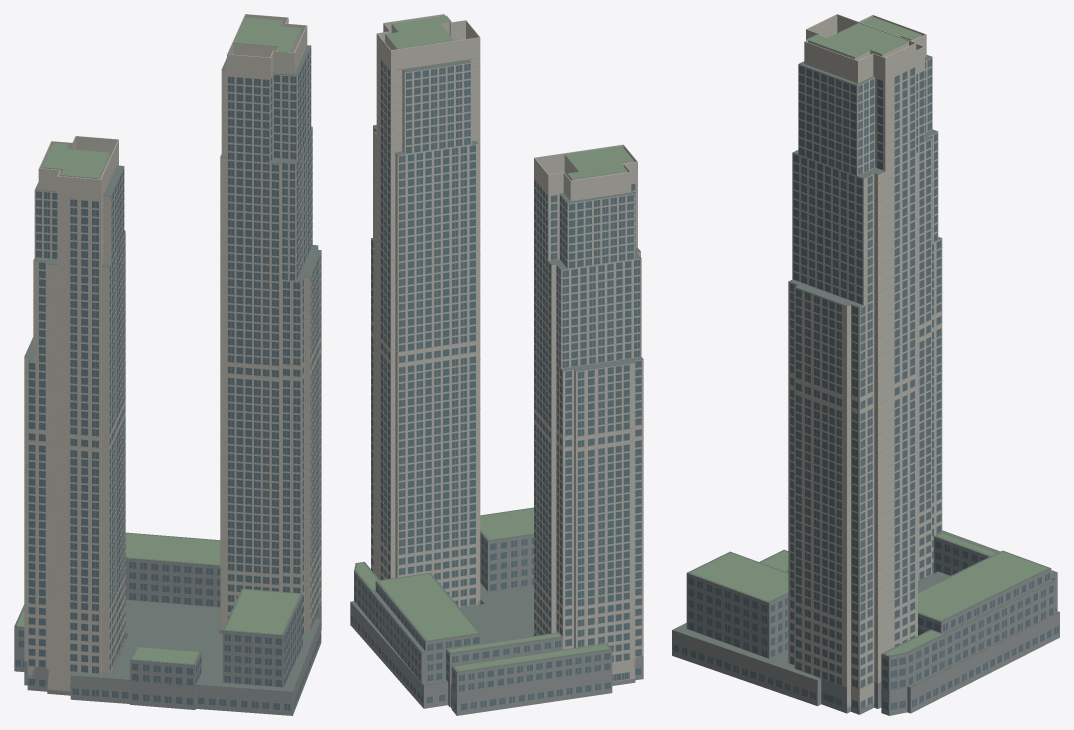
Rendered from square-one-block22-study.glb.
The picture shows the model from 3 angles, left to right: view 1: azimuth 30°, elevation 25°; view 2: azimuth 150°, elevation 25°; view 3: azimuth 270°, elevation 25°; orthographic projection. The views are drawn at different scales.
Parts seen in each view (by area): view 1: block22-private-upper, block22-private-glass, block22-private-frame, block22-private-podium, block22-private-roof, block22-private-green; view 2: block22-private-glass, block22-private-upper, block22-private-frame, block22-private-podium, block22-private-green, block22-private-roof; view 3: block22-private-upper, block22-private-glass, block22-private-frame, block22-private-podium, block22-private-green, block22-private-roof.
Part boxes in pixels (x1=…): block22-private-upper: x1=24, y1=14, x2=321, y2=691; block22-private-glass: x1=15, y1=48, x2=321, y2=710; block22-private-frame: x1=15, y1=54, x2=321, y2=710; block22-private-podium: x1=14, y1=558, x2=321, y2=715; block22-private-roof: x1=14, y1=45, x2=321, y2=692; block22-private-green: x1=17, y1=17, x2=301, y2=664; block22-private-glass: x1=351, y1=60, x2=641, y2=710; block22-private-upper: x1=371, y1=14, x2=643, y2=681; block22-private-frame: x1=352, y1=60, x2=643, y2=710; block22-private-podium: x1=350, y1=532, x2=643, y2=715; block22-private-green: x1=356, y1=15, x2=633, y2=671; block22-private-roof: x1=350, y1=58, x2=643, y2=692; block22-private-upper: x1=788, y1=14, x2=942, y2=709; block22-private-glass: x1=673, y1=58, x2=1058, y2=710; block22-private-frame: x1=673, y1=58, x2=1058, y2=710; block22-private-podium: x1=672, y1=536, x2=1059, y2=715; block22-private-green: x1=690, y1=17, x2=1053, y2=655; block22-private-roof: x1=672, y1=55, x2=1059, y2=690.
Size of the model in its own units: 107 by 214 by 116.
